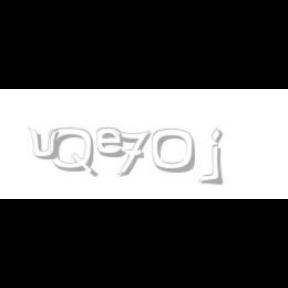7: (115, 128, 152, 178)
O: (152, 128, 196, 174)
Q: (50, 128, 96, 178)
e: (96, 128, 130, 158)
j: (208, 128, 238, 186)
u: (28, 128, 62, 160)
